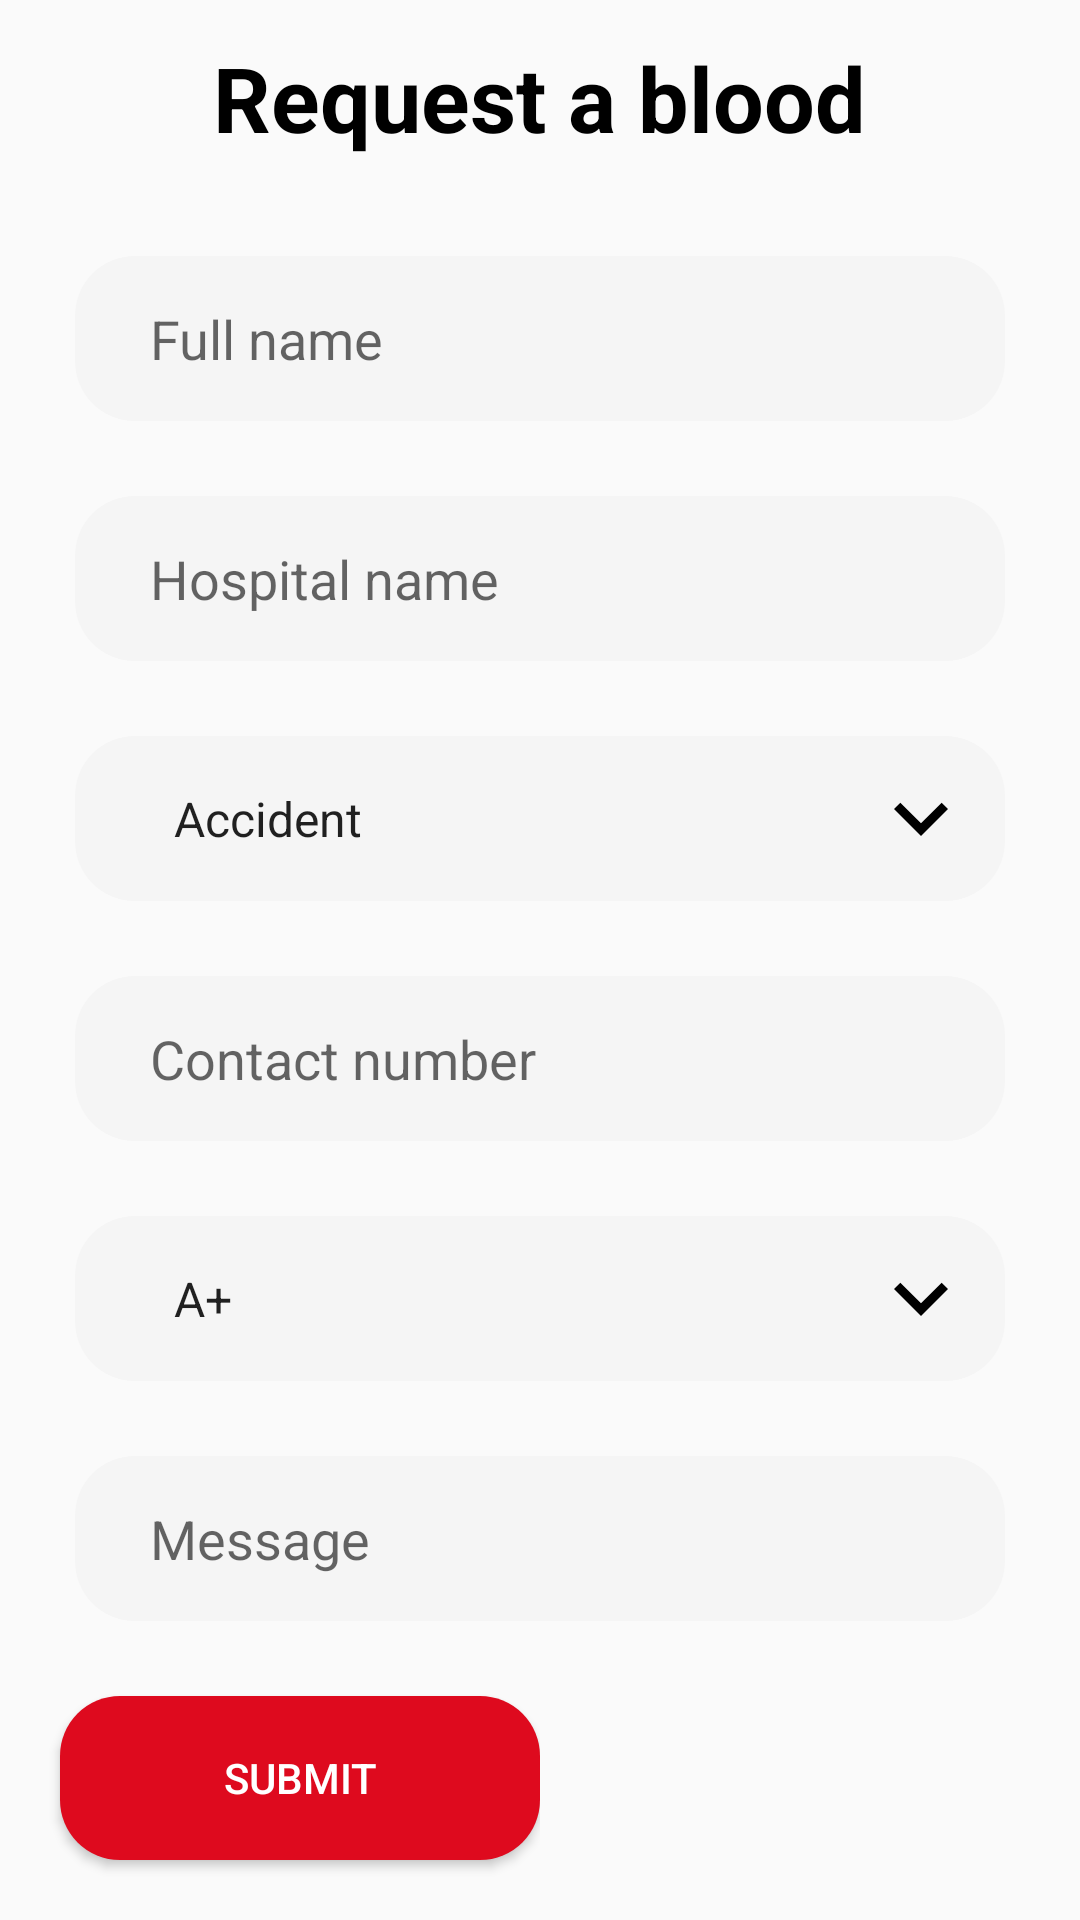

Named icons in this screenshot (1080 × 1920) and their bounding boxes, (x1, y1, x2, y2):
down arrow: (894, 803, 948, 836), (894, 1283, 948, 1316)
